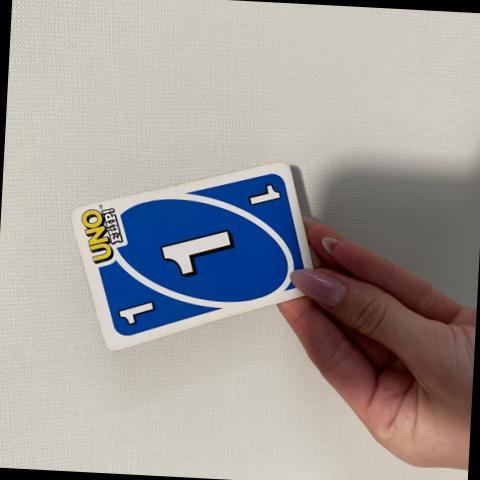lblue-1: (110, 282, 162, 333)
